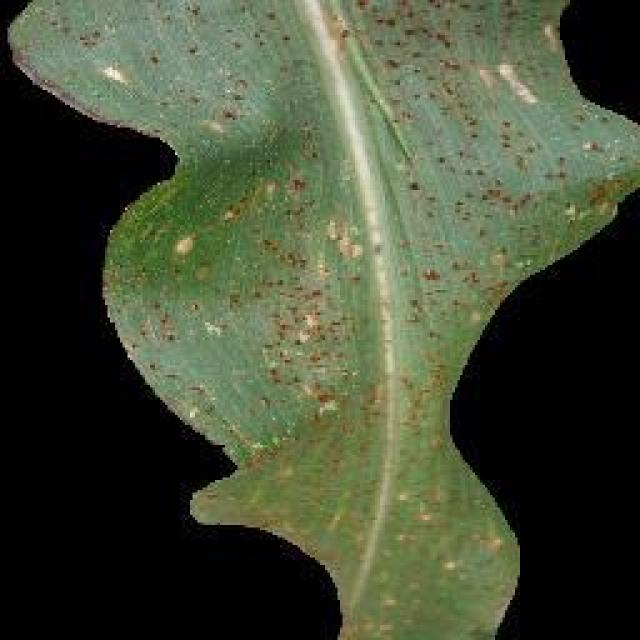Corn Common Rust: (130, 59, 525, 558)
